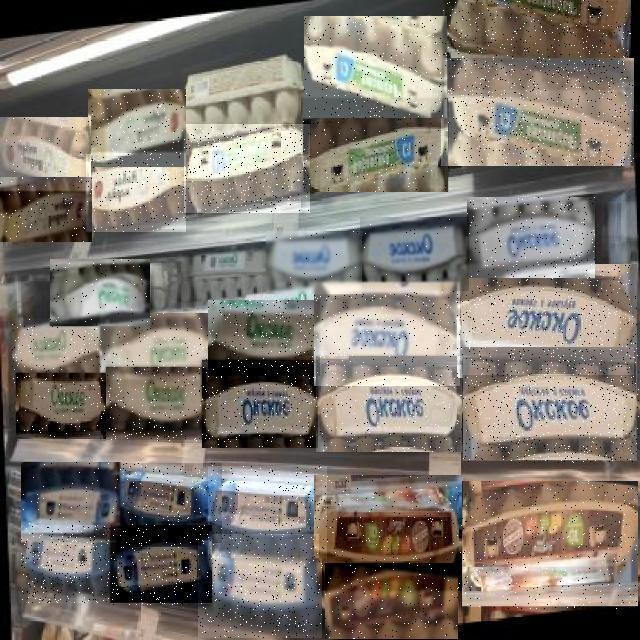Eggs: (462, 482, 638, 610), (444, 59, 634, 167), (457, 264, 637, 378), (464, 348, 640, 464), (317, 475, 463, 591), (443, 1, 631, 91), (315, 282, 461, 386), (304, 16, 447, 118), (316, 356, 462, 452), (304, 99, 452, 193), (198, 534, 322, 638), (208, 467, 330, 559), (184, 124, 310, 213), (467, 197, 595, 278), (202, 360, 318, 448), (325, 563, 458, 639), (209, 301, 321, 377), (120, 463, 222, 543), (110, 526, 212, 606), (22, 463, 124, 543), (360, 217, 469, 291), (86, 154, 186, 232), (88, 90, 186, 168), (100, 313, 208, 382), (21, 525, 116, 603), (106, 368, 206, 442), (0, 117, 91, 191), (50, 259, 150, 326), (266, 231, 362, 294), (0, 177, 92, 242), (12, 318, 102, 384), (16, 373, 106, 439)
